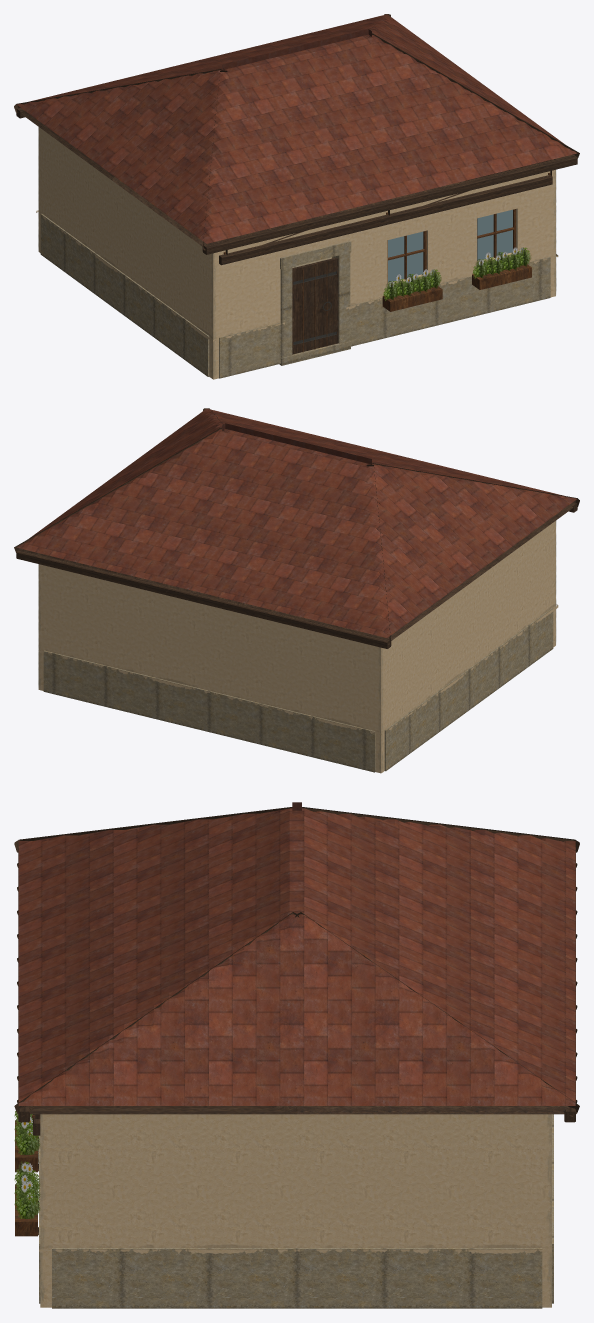
Rendered from B13_vivienda.gltf.
3 views of the same model, one above another, from view 1: azimuth 30°, elevation 25°; view 2: azimuth 150°, elevation 25°; view 3: azimuth 270°, elevation 25° (orthographic). The views are drawn at different scales.
Parts seen in each view (by area): view 1: AUR034_B13_clay_tiles, AUR034_B13_lower_masonry, B13_runtime_static_039, B13_runtime_static_000, AUR034_B13_entry_leaf0, B13_runtime_static_048, AUR034_B13_window1_glazing, AUR034_B13_window0_glazing, B13_herbs_0, B13_herbs_1, AUR034_B13_ridge, B13_plaster_stone_joint_wear (+1 smaller); view 2: AUR034_B13_clay_tiles, AUR034_B13_lower_masonry, B13_runtime_static_039, B13_runtime_static_000, B13_plaster_stone_joint_wear, AUR034_B13_ridge, B13_AUR034_B13_lower_masonry_corner_wear; view 3: AUR034_B13_clay_tiles, AUR034_B13_lower_masonry, B13_runtime_static_039, B13_runtime_static_000, B13_plaster_stone_joint_wear, B13_herbs_1, B13_runtime_static_048, B13_herbs_0, B13_AUR034_B13_lower_masonry_corner_wear.
Boxes of the visible parts, bbox=[...] form: AUR034_B13_clay_tiles: bbox=[17, 14, 576, 243]; AUR034_B13_lower_masonry: bbox=[38, 127, 555, 379]; B13_runtime_static_039: bbox=[40, 213, 550, 378]; B13_runtime_static_000: bbox=[14, 14, 579, 265]; AUR034_B13_entry_leaf0: bbox=[292, 257, 338, 354]; B13_runtime_static_048: bbox=[223, 173, 550, 352]; AUR034_B13_window1_glazing: bbox=[477, 209, 512, 260]; AUR034_B13_window0_glazing: bbox=[388, 231, 423, 282]; B13_herbs_0: bbox=[383, 269, 441, 300]; B13_herbs_1: bbox=[472, 247, 530, 278]; AUR034_B13_ridge: bbox=[222, 29, 371, 72]; B13_plaster_stone_joint_wear: bbox=[36, 210, 558, 341]; AUR034_B13_clay_tiles: bbox=[17, 408, 576, 637]; AUR034_B13_lower_masonry: bbox=[38, 521, 555, 773]; B13_runtime_static_039: bbox=[43, 608, 553, 772]; B13_runtime_static_000: bbox=[14, 408, 579, 648]; B13_plaster_stone_joint_wear: bbox=[38, 604, 558, 735]; AUR034_B13_ridge: bbox=[222, 423, 371, 466]; B13_AUR034_B13_lower_masonry_corner_wear: bbox=[38, 520, 556, 770]; AUR034_B13_clay_tiles: bbox=[18, 808, 575, 1105]; AUR034_B13_lower_masonry: bbox=[40, 1114, 551, 1307]; B13_runtime_static_039: bbox=[38, 1114, 553, 1308]; B13_runtime_static_000: bbox=[14, 807, 579, 1235]; B13_plaster_stone_joint_wear: bbox=[39, 1245, 543, 1253]; B13_herbs_1: bbox=[14, 1161, 40, 1218]; B13_runtime_static_048: bbox=[15, 1115, 37, 1236]; B13_herbs_0: bbox=[14, 1111, 40, 1154]; B13_AUR034_B13_lower_masonry_corner_wear: bbox=[40, 1114, 551, 1304].
Bounding box in the file's own units: 9.11 × 5.25 × 8.09.
Materials: 12 (11 with a texture image).
